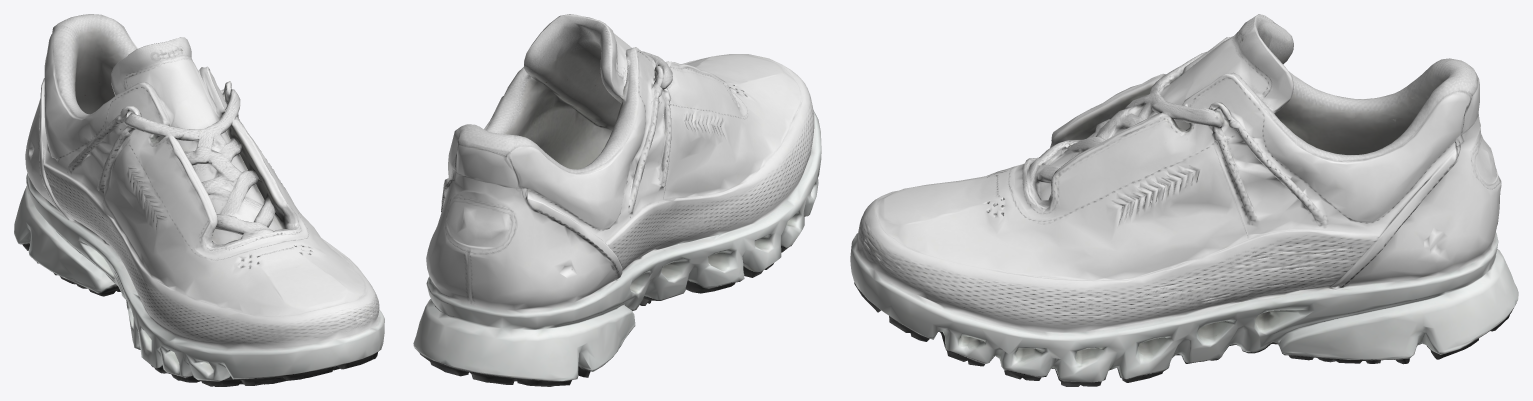
Rendered from dam.glb.
The picture shows the model from 3 angles, left to right: view 1: azimuth 30°, elevation 25°; view 2: azimuth 150°, elevation 25°; view 3: azimuth 270°, elevation 25°; orthographic projection. The views are drawn at different scales.
Parts seen in each view (by area): view 1: tripo_node_14e4980a-9ea7-4d01-b770-9139ed258627; view 2: tripo_node_14e4980a-9ea7-4d01-b770-9139ed258627; view 3: tripo_node_14e4980a-9ea7-4d01-b770-9139ed258627.
Boxes of the visible parts, x1,y1,x2,y2 form: tripo_node_14e4980a-9ea7-4d01-b770-9139ed258627: (14, 14, 384, 386); tripo_node_14e4980a-9ea7-4d01-b770-9139ed258627: (413, 14, 821, 386); tripo_node_14e4980a-9ea7-4d01-b770-9139ed258627: (850, 14, 1518, 386).
Bounding box in the file's own units: 0.4005 × 0.5014 × 0.9795.
Materials: 1 (1 with a texture image).
